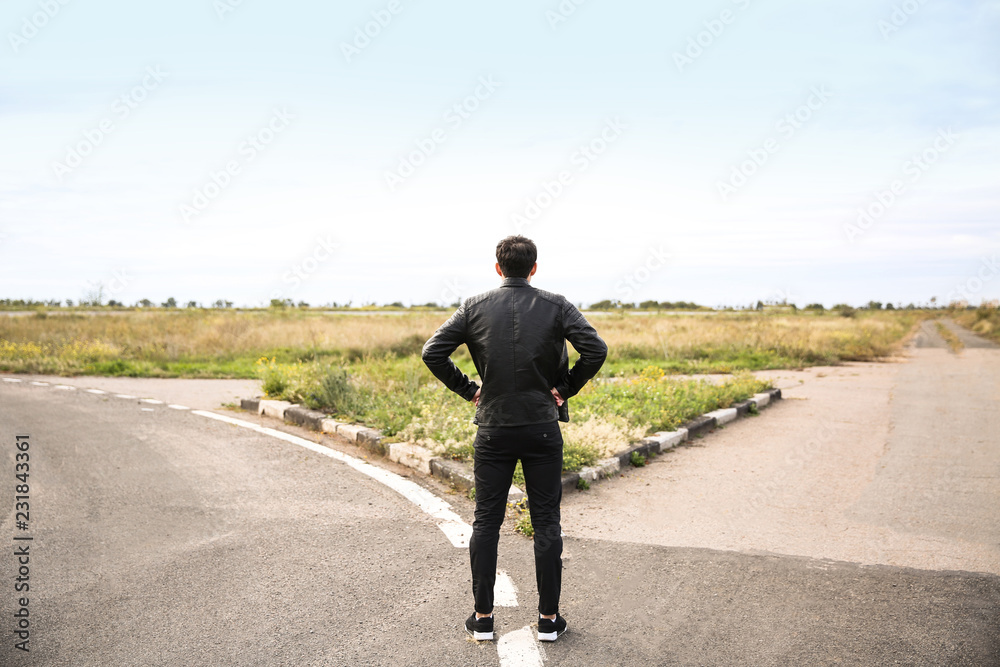person: (419, 233, 610, 642)
